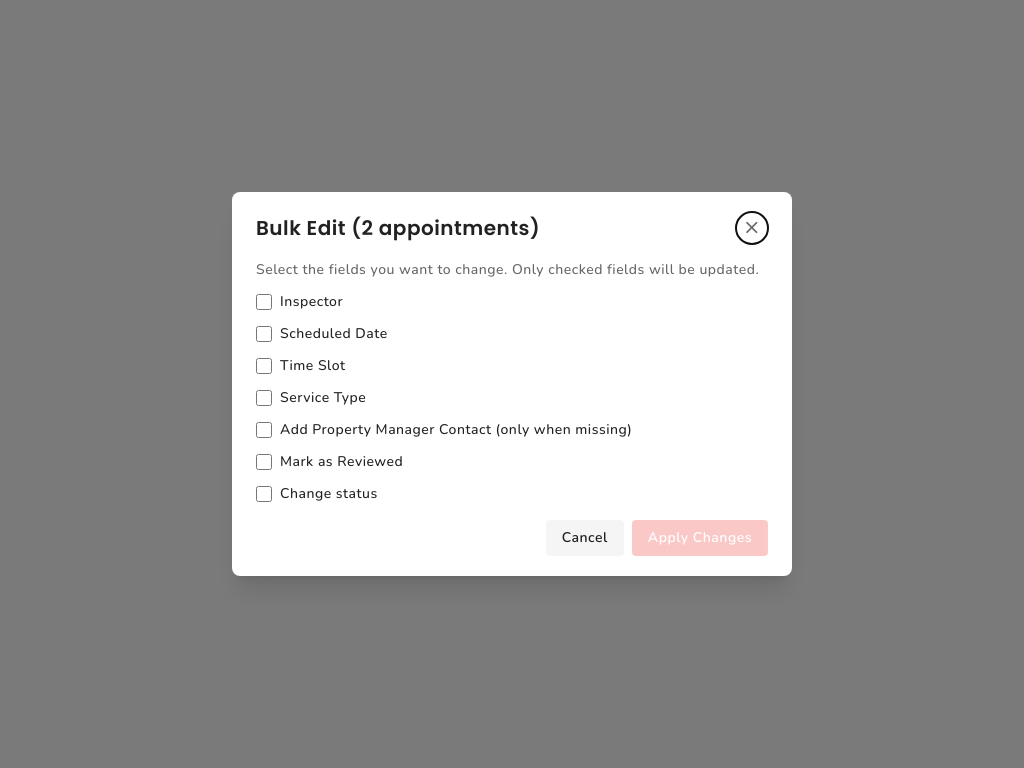
Test: BulkEditModal › service group awareness › warns that grouped rows have a group-managed date before submitting
What coordinates should you click on to do the following:
click the checkbox labelled "Scheduled Date"
I would click on:
 (264, 334)
Its box is [256, 326, 272, 342].
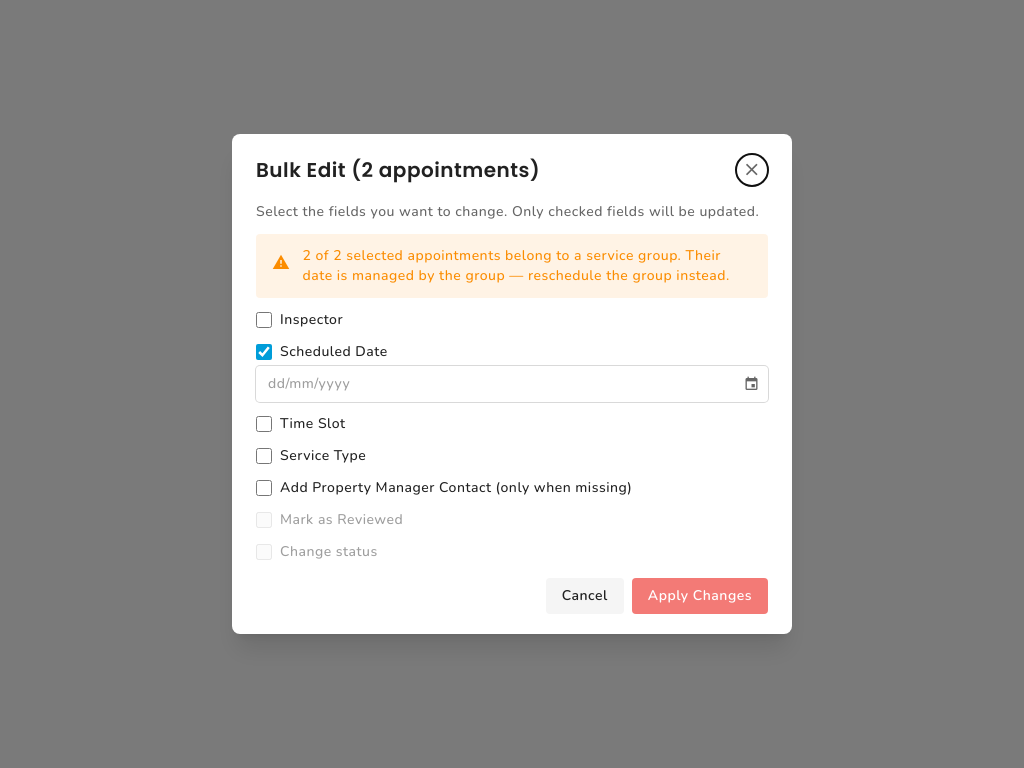
Now the text "2 of 2 selected appointments belong to a service group" is shown, box [302, 246, 752, 286]
Now the text "reschedule the group instead" is shown, box [302, 246, 730, 285]
